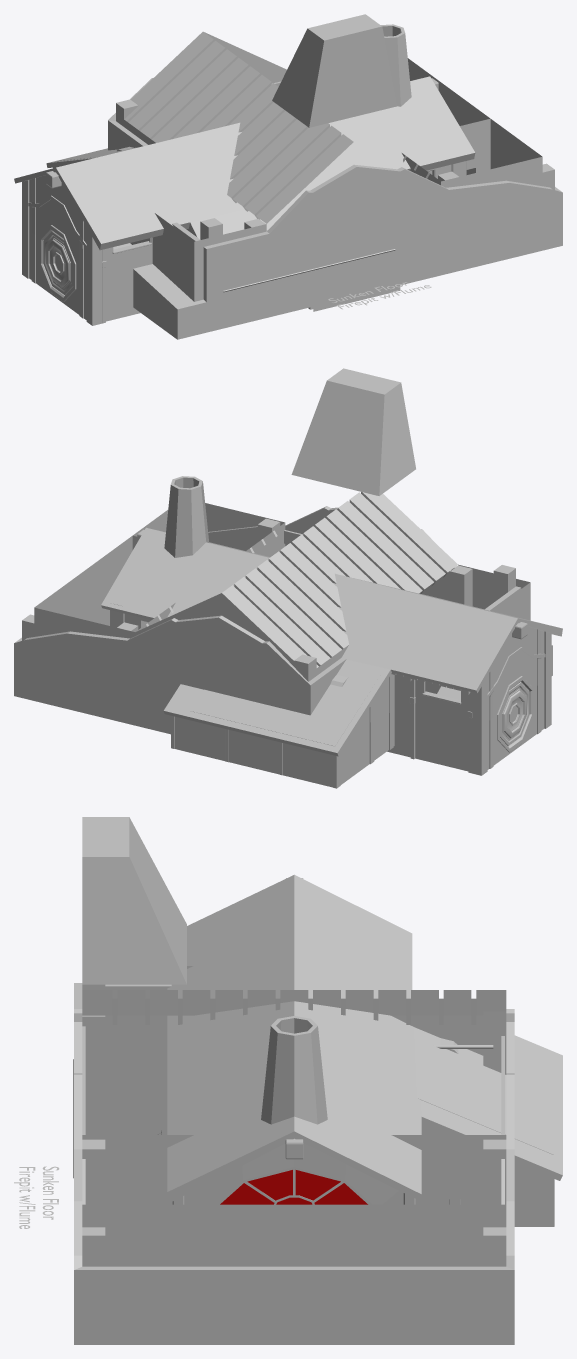
Rendered from NewPlayerHome.obj.
3 renders of one model, top to bottom at view 1: azimuth 30°, elevation 25°; view 2: azimuth 150°, elevation 25°; view 3: azimuth 270°, elevation 25°, orthographic. The views are drawn at different scales.
Visible parts, largest first — view 1: Cube.001_Cube.007, Cube, Cylinder.004_Cylinder.005, Cube.007_Cube.015, FrontDoor.001_Cylinder.013, Cube.005_Cube.012, Cube.018_Cube.049, Cube.035_Cube.073, Cube.008_Cube.016, FrontDoor_Cylinder.007, Cube.003_Cube.010; view 2: Cube, Cylinder.004_Cylinder.005, Cube.001_Cube.007, Roof_Plane.002, Cube.007_Cube.015, Cube.026_Cube.061, FrontDoor.001_Cylinder.013, Cube.018_Cube.049, Cube.008_Cube.016, Cube.024_Cube.059, Cube.035_Cube.073, FrontDoor_Cylinder.007 (+5 smaller); view 3: Cylinder.004_Cylinder.005, Cube, Cube.001_Cube.007, Roof_Plane.002, Cube.007_Cube.015, Cube.008_Cube.016, Cube.029_Cube.066, Cylinder.009_Cylinder.012, Cube.025_Cube.060, Cube.004_Cube.017.
Boxes of the visible parts, left/top/right/bottom form: Cube.001_Cube.007: left=108, top=57, right=562, bottom=332; Cube: left=116, top=31, right=542, bottom=309; Cylinder.004_Cylinder.005: left=14, top=24, right=475, bottom=292; Cube.007_Cube.015: left=272, top=14, right=397, bottom=127; FrontDoor.001_Cylinder.013: left=28, top=175, right=86, bottom=319; Cube.005_Cube.012: left=113, top=243, right=206, bottom=339; Cube.018_Cube.049: left=106, top=237, right=152, bottom=321; Cube.035_Cube.073: left=22, top=180, right=102, bottom=325; Cube.008_Cube.016: left=116, top=99, right=554, bottom=245; FrontDoor_Cylinder.007: left=43, top=231, right=73, bottom=295; Cube.003_Cube.010: left=115, top=124, right=147, bottom=149; Cube: left=34, top=492, right=530, bottom=681; Cylinder.004_Cylinder.005: left=101, top=476, right=562, bottom=756; Cube.001_Cube.007: left=14, top=506, right=521, bottom=734; Roof_Plane.002: left=151, top=530, right=512, bottom=746; Cube.007_Cube.015: left=291, top=368, right=415, bottom=495; Cube.026_Cube.061: left=174, top=716, right=333, bottom=787; FrontDoor.001_Cylinder.013: left=487, top=626, right=545, bottom=769; Cube.018_Cube.049: left=415, top=680, right=468, bottom=771; Cube.008_Cube.016: left=22, top=518, right=515, bottom=674; Cube.024_Cube.059: left=340, top=675, right=394, bottom=784; Cube.035_Cube.073: left=471, top=631, right=551, bottom=775; FrontDoor_Cylinder.007: left=500, top=682, right=529, bottom=745; Cylinder.004_Cylinder.005: left=73, top=874, right=562, bottom=1201; Cube: left=14, top=966, right=506, bottom=1266; Cube.001_Cube.007: left=74, top=983, right=514, bottom=1344; Roof_Plane.002: left=294, top=878, right=553, bottom=1154; Cube.007_Cube.015: left=82, top=817, right=186, bottom=984; Cube.008_Cube.016: left=82, top=984, right=506, bottom=1266; Cube.029_Cube.066: left=184, top=1143, right=403, bottom=1204; Cylinder.009_Cylinder.012: left=220, top=1170, right=367, bottom=1204; Cube.025_Cube.060: left=415, top=1124, right=546, bottom=1226; Cube.004_Cube.017: left=82, top=1026, right=504, bottom=1134.
Bounding box in the file's own units: 29.99 × 18.19 × 23.3.
